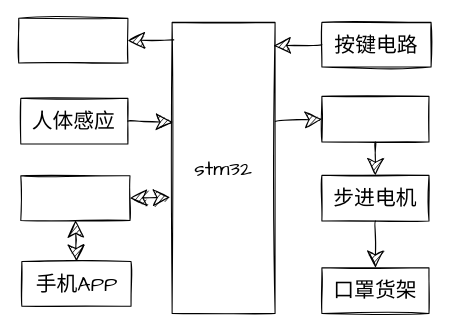
Image size: 449x332. Some labels were removed from this diagram. Here are the shapes that lost their labels. From the top down, the centre of each, then its label:
At (x=73, y=40): "液晶模块".
At (x=375, y=118): "驱动器".
At (x=75, y=197): "WIFI模块".
